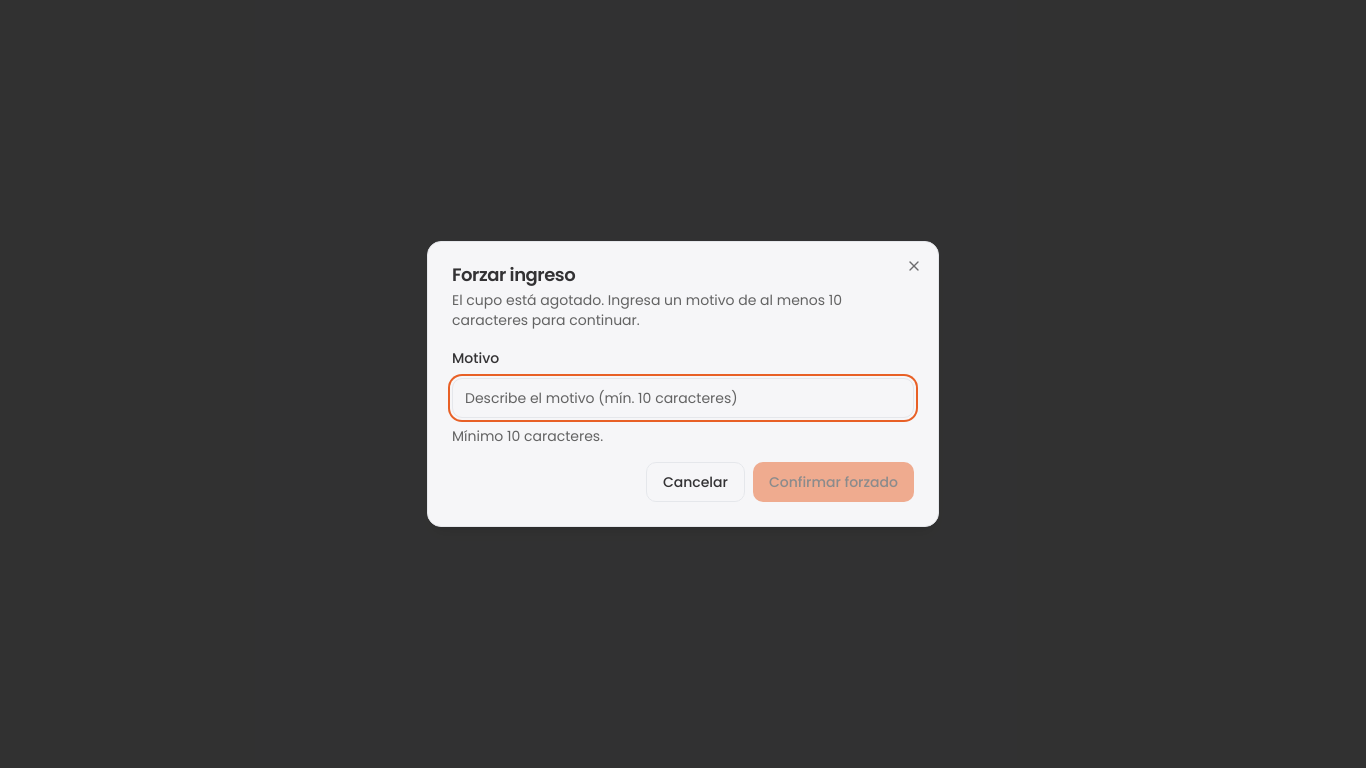
Test: ForzarIngresoModal › disables the confirm button until motivo ≥10 chars
Expected: the button "Confirmar forzado" is disabled, [753,462,914,502]
Type "corto" into the field labelled "Motivo" at (683, 398), box [452,378,914,418]
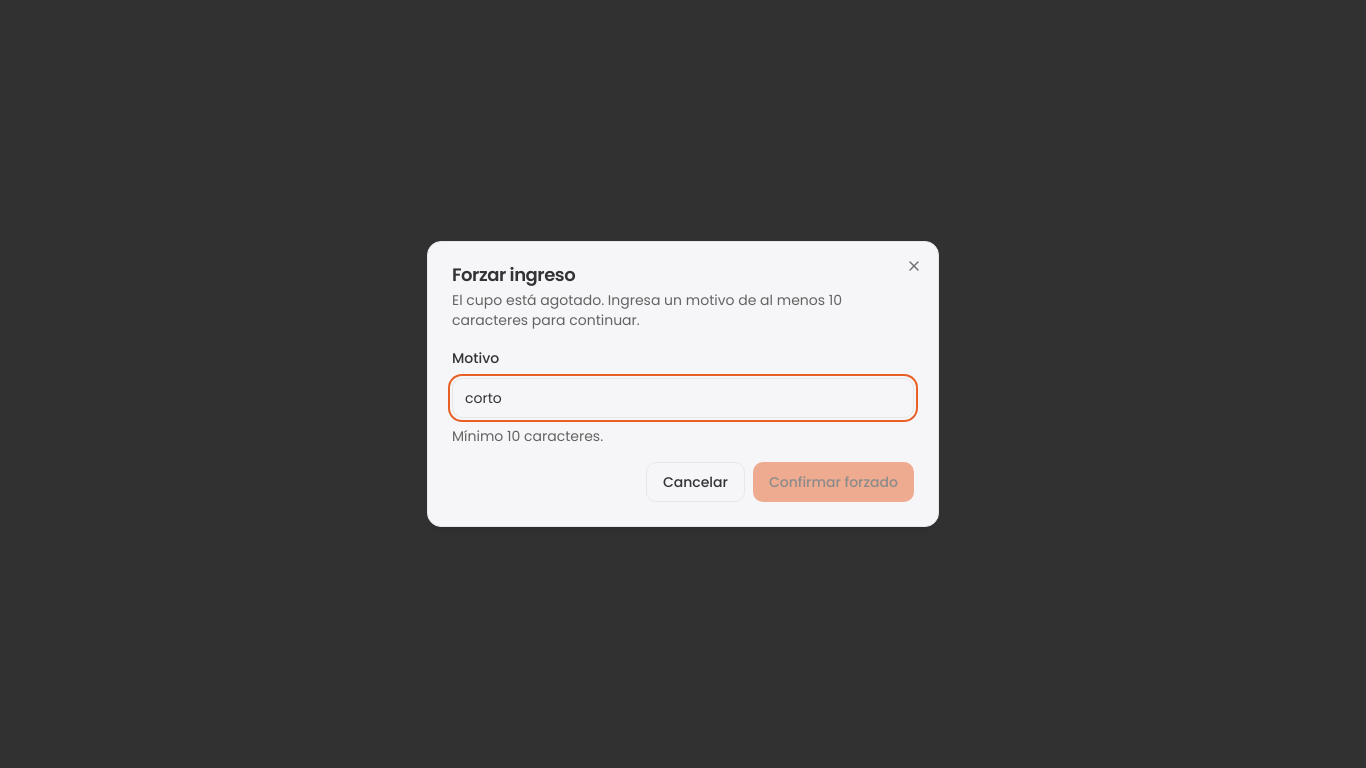
Expected: the button "Confirmar forzado" is disabled, [753,462,914,502]
Replace the text in the field labelled "Motivo" with "cliente VIP requiere acceso" at (683, 398), box [452,378,914,418]
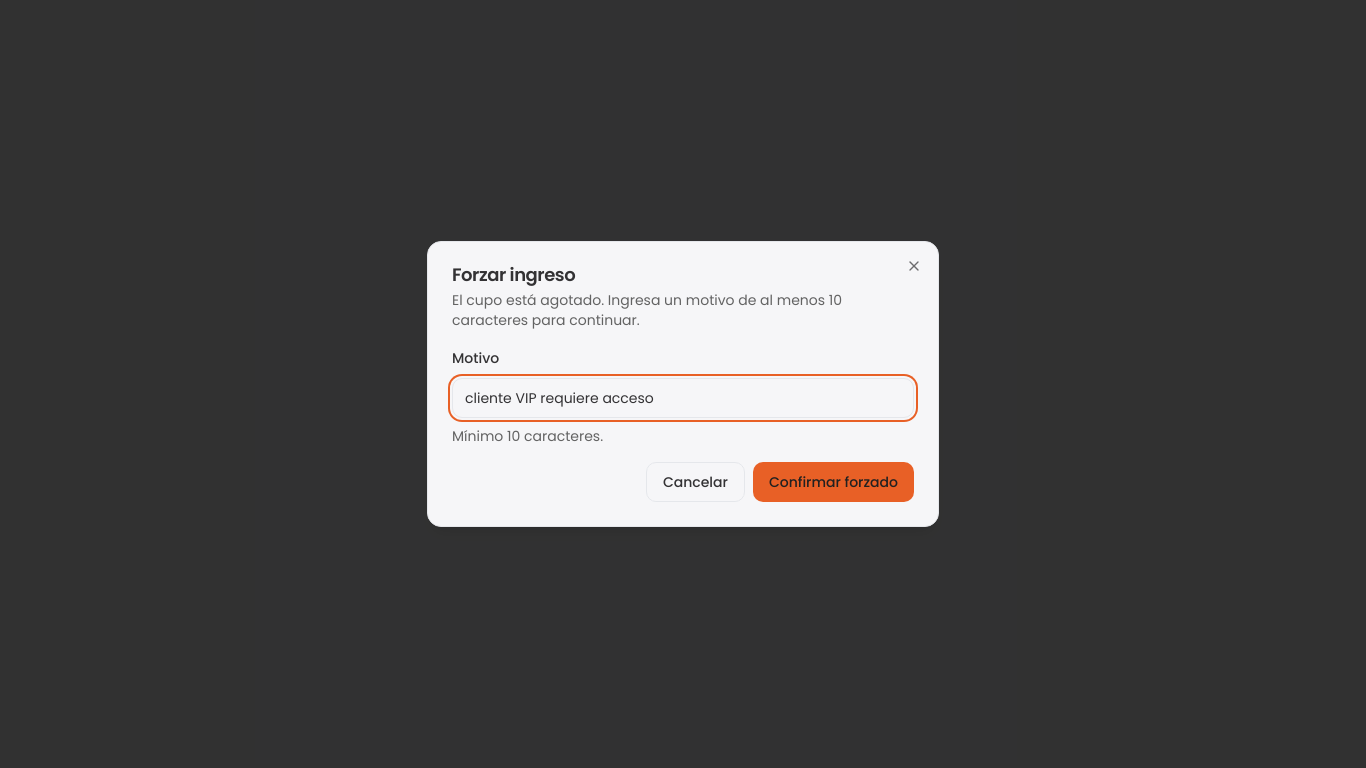
Now the button "Confirmar forzado" is enabled, box [753,462,914,502]
